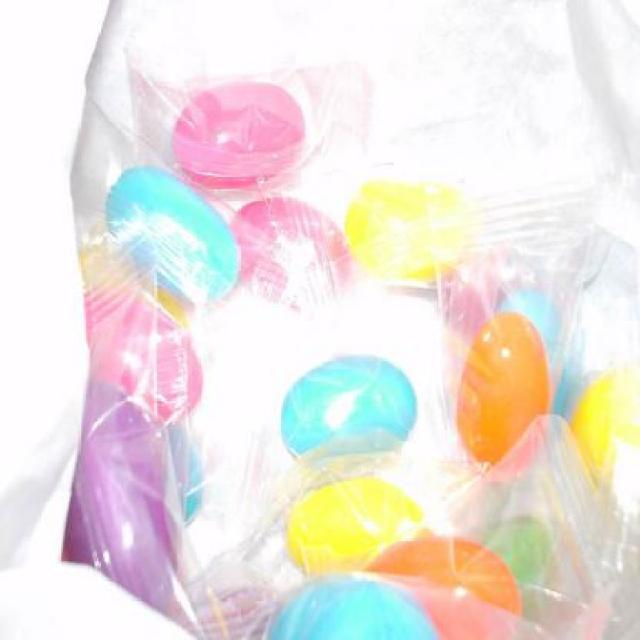Candy: (66, 76, 580, 639)
